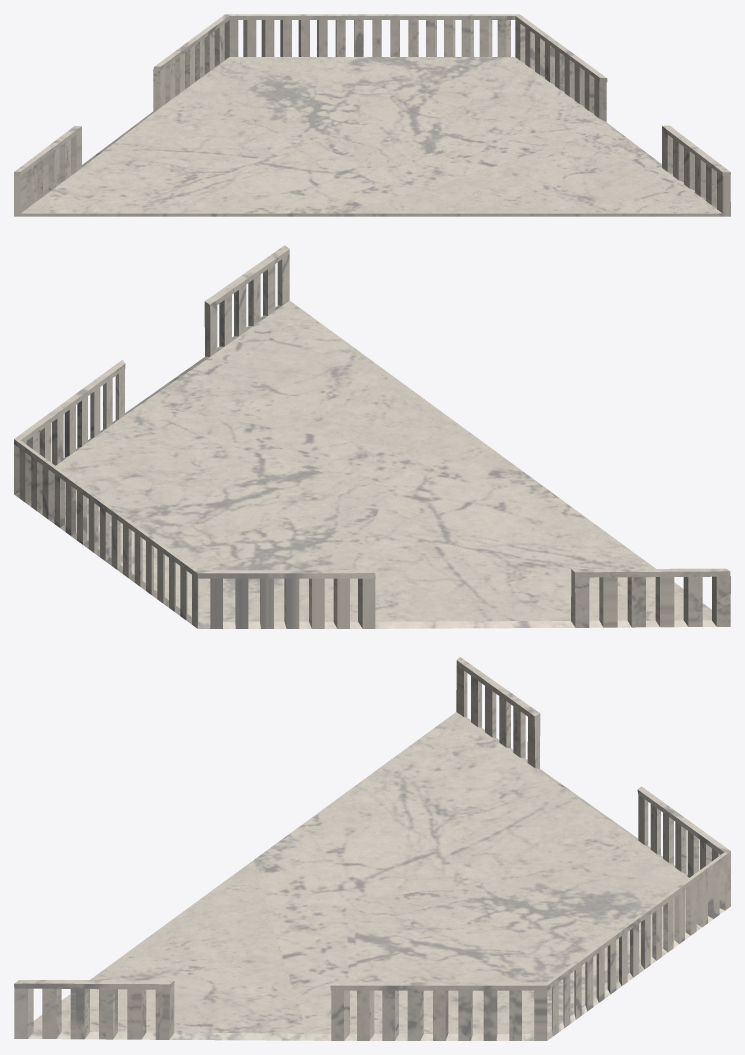
The model's file is BalconyUV.fbx.
3 renders of one model, top to bottom at view 1: azimuth 30°, elevation 25°; view 2: azimuth 150°, elevation 25°; view 3: azimuth 270°, elevation 25°, orthographic. The views are drawn at different scales.
Visible parts, largest first — view 1: Balcony_with_Floor; view 2: Balcony_with_Floor; view 3: Balcony_with_Floor.
Boxes of the visible parts, box(x1,y1,x2,y2) form: Balcony_with_Floor: box(14, 14, 730, 216); Balcony_with_Floor: box(14, 245, 730, 628); Balcony_with_Floor: box(14, 657, 730, 1040).
Bounding box in the file's own units: 1247 × 98.47 × 1150.
